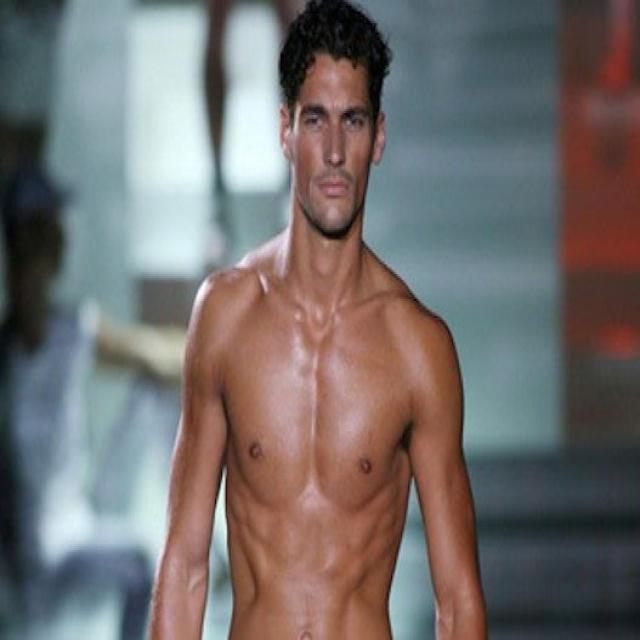mobile_phonerotation: (134, 0, 493, 638)
